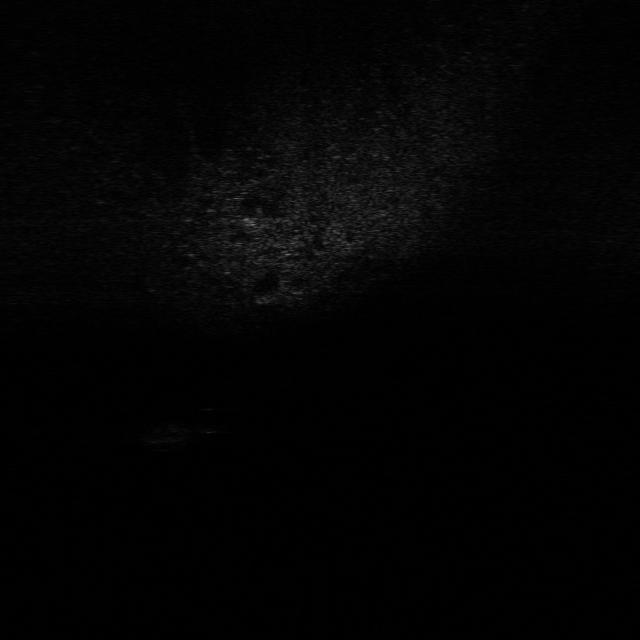ball: (193, 406, 232, 435)
circle cage: (134, 420, 207, 451)
